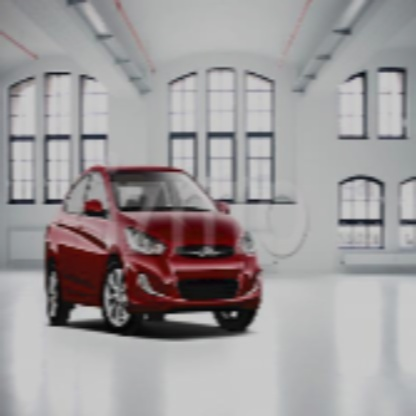Vehicle: (43, 163, 264, 337)
